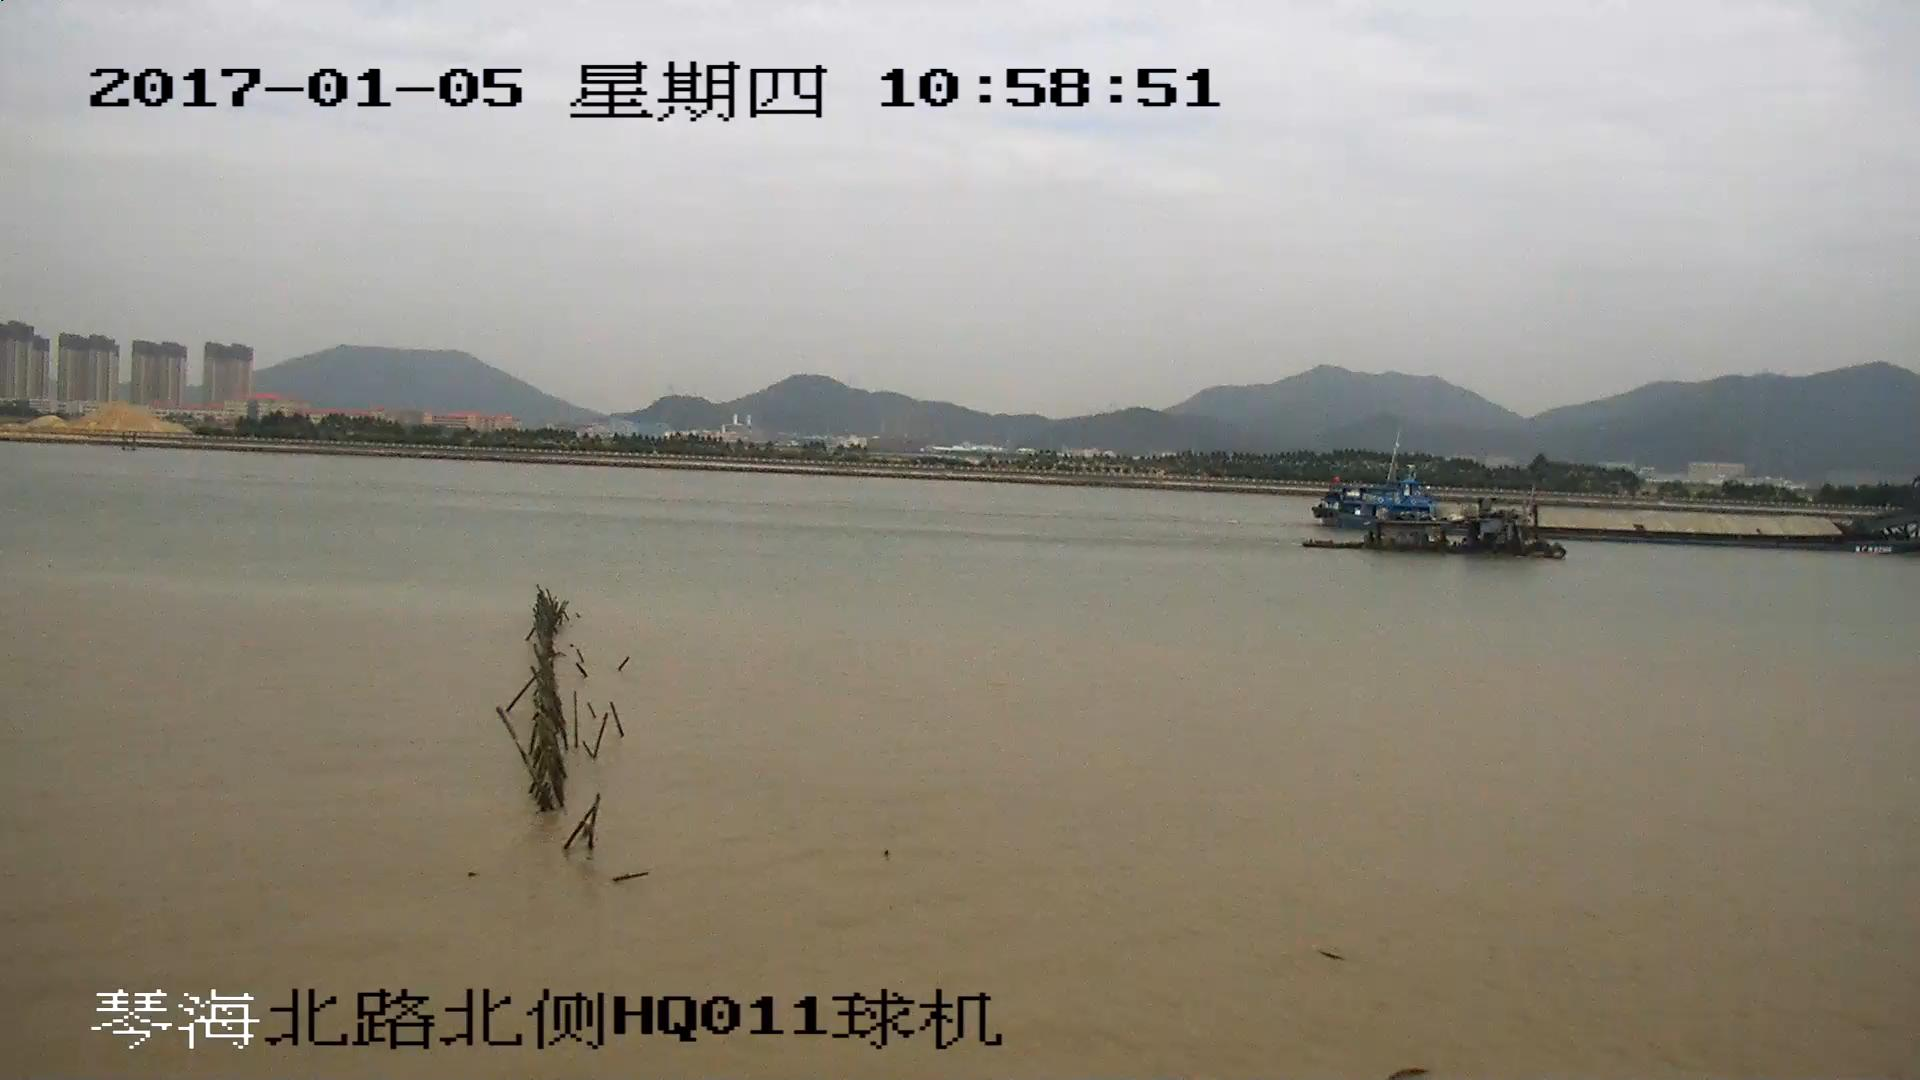ore carrier: (1312, 476, 1920, 556)
